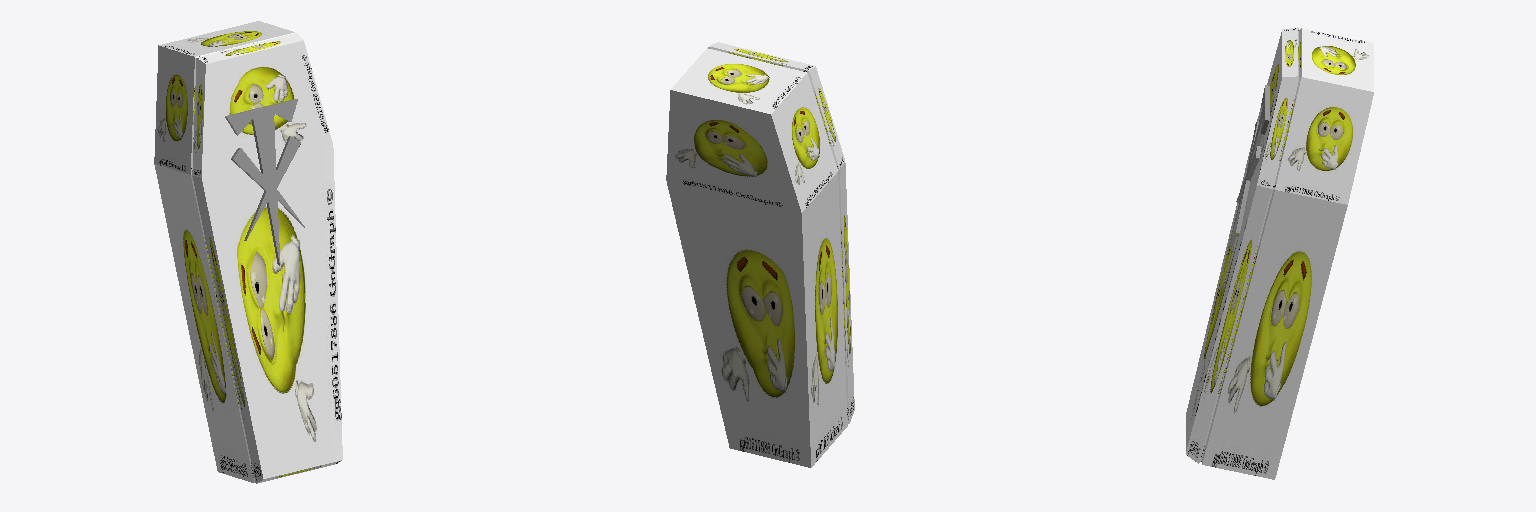
3 renders of one model, left to right at view 1: azimuth 30°, elevation 25°; view 2: azimuth 150°, elevation 25°; view 3: azimuth 270°, elevation 25°, orthographic.
Parts seen in each view (by area): view 1: coffin_Cube.002_Material.003, symbol_Cube.001; view 2: coffin_Cube.002_Material.003; view 3: coffin_Cube.002_Material.003, symbol_Cube.001.
Boxes of the visible parts, <box> form: coffin_Cube.002_Material.003: <box>154,21,342,483</box>; symbol_Cube.001: <box>225,99,304,265</box>; coffin_Cube.002_Material.003: <box>666,42,854,467</box>; coffin_Cube.002_Material.003: <box>1186,27,1373,479</box>; symbol_Cube.001: <box>1229,85,1269,246</box>.
Bounding box in the file's own units: 2.69 × 7.75 × 3.25.
Materials: 2 (1 with a texture image).